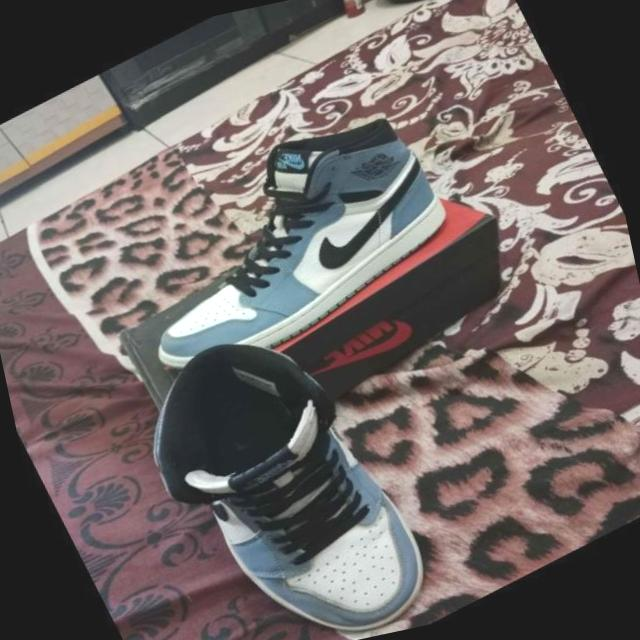nike_fake_jordan: (80, 77, 487, 406), (107, 282, 454, 640)
